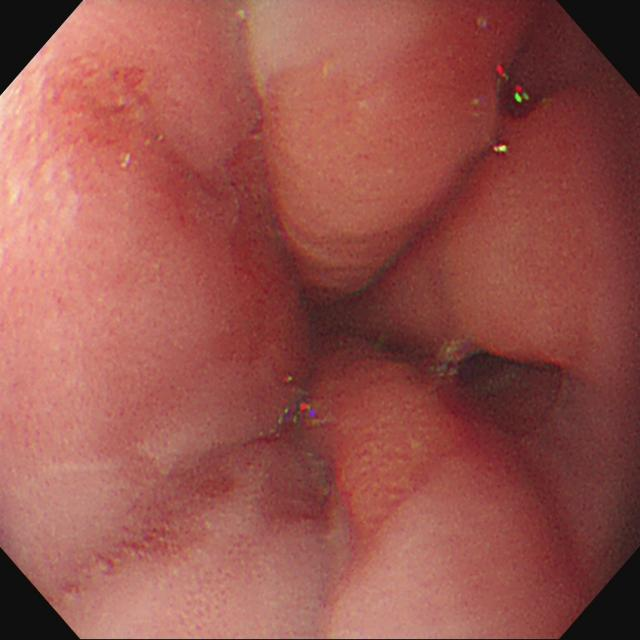I: (205, 184, 481, 493)
U: (513, 85, 532, 106)
